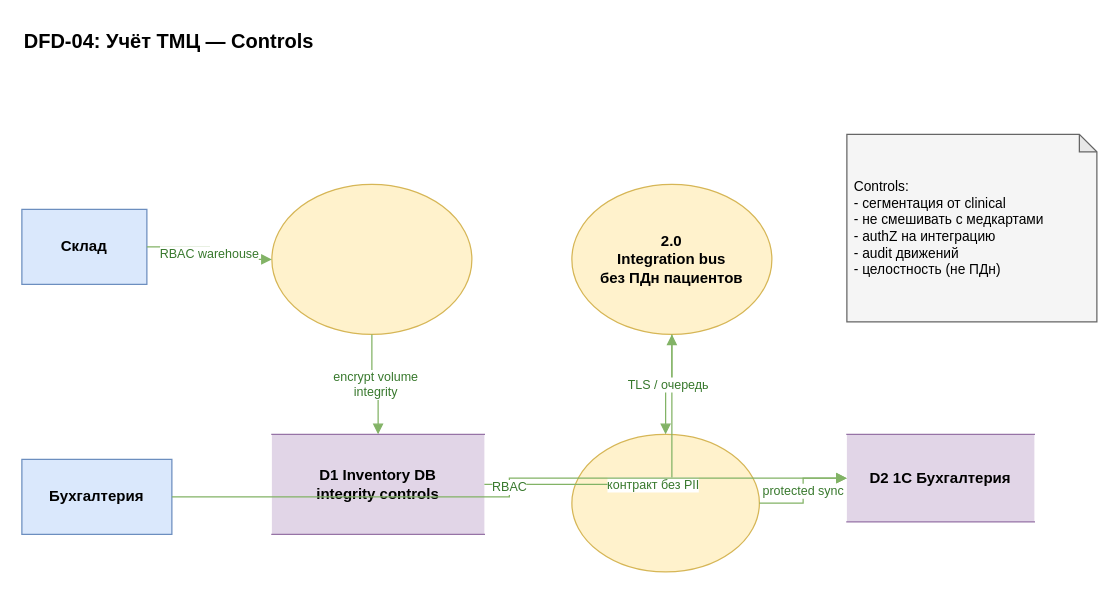
This 1119x594 diagram has some shape labels left out. The shapes that lost their labels are listed below. From the top down, each one's centre as x and y in pixels, then its label:
At [371,258]: "1.0 Inventory service отдельный контур".
At [665,502]: "3.0 Accounting sync".
